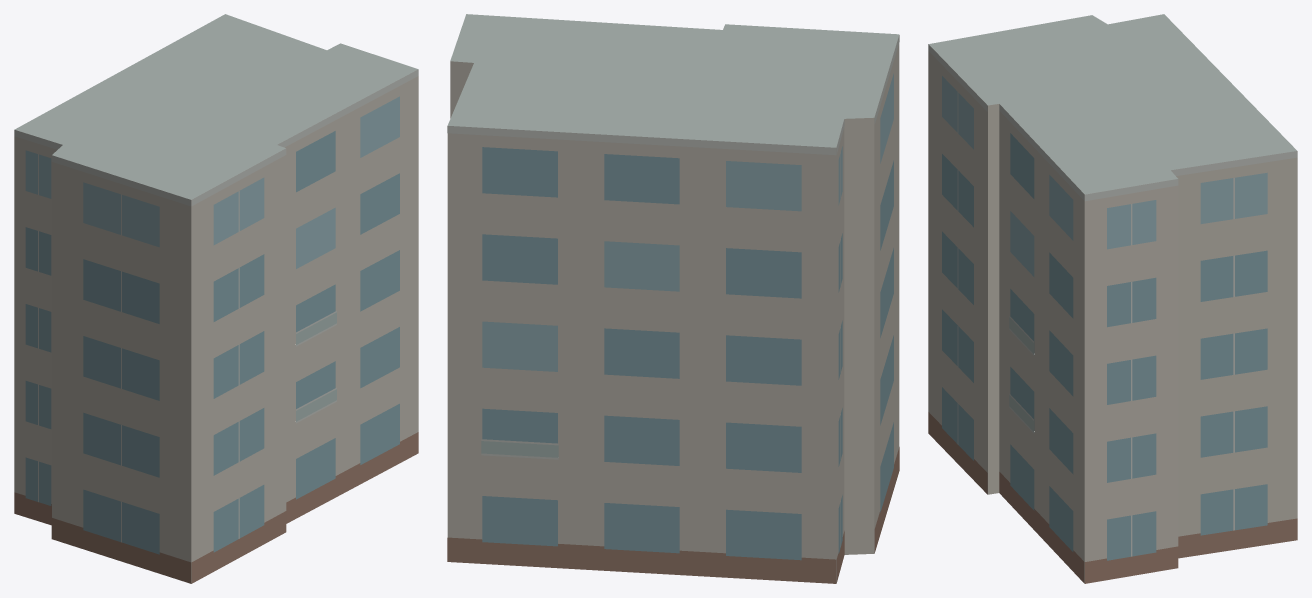
Rendered from survey-upis-32953155.glb.
3 views of the same model, side by side, from view 1: azimuth 30°, elevation 25°; view 2: azimuth 150°, elevation 25°; view 3: azimuth 270°, elevation 25° (orthographic). The views are drawn at different scales.
Parts seen in each view (by area): view 1: survey-upis-32953155.tmp; view 2: survey-upis-32953155.tmp; view 3: survey-upis-32953155.tmp.
Boxes of the visible parts, x1,y1,x2,y2 form: survey-upis-32953155.tmp: [14, 14, 418, 583]; survey-upis-32953155.tmp: [447, 14, 899, 583]; survey-upis-32953155.tmp: [928, 14, 1297, 583].
Size of the model in its own units: 14.14 by 14.2 by 12.21.
